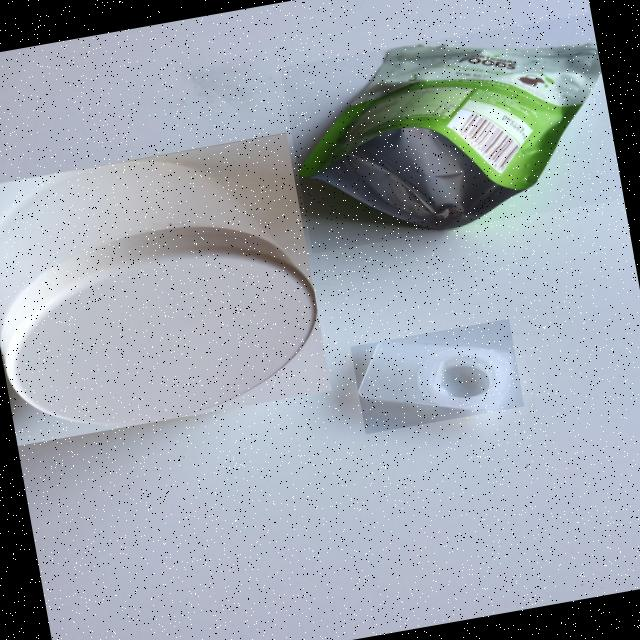Other plastic: (299, 42, 601, 230)
Other plastic cup: (358, 340, 515, 412)
Tupperware: (0, 162, 317, 426)
